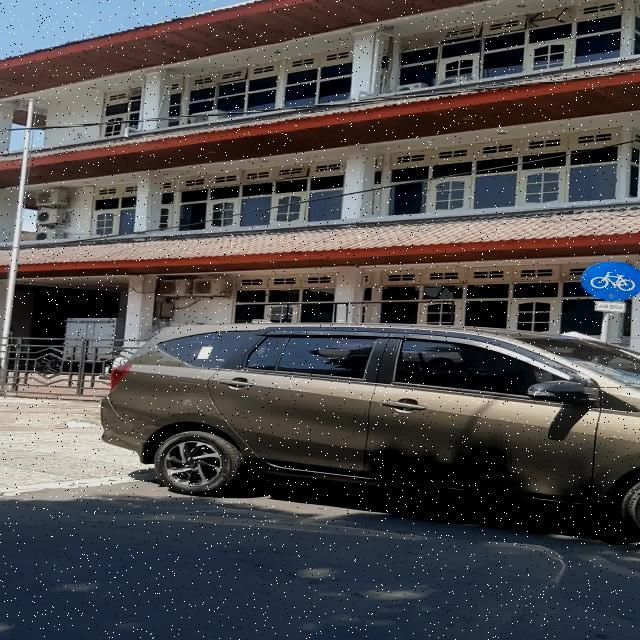Jalur Sepeda: (580, 260, 640, 300)
